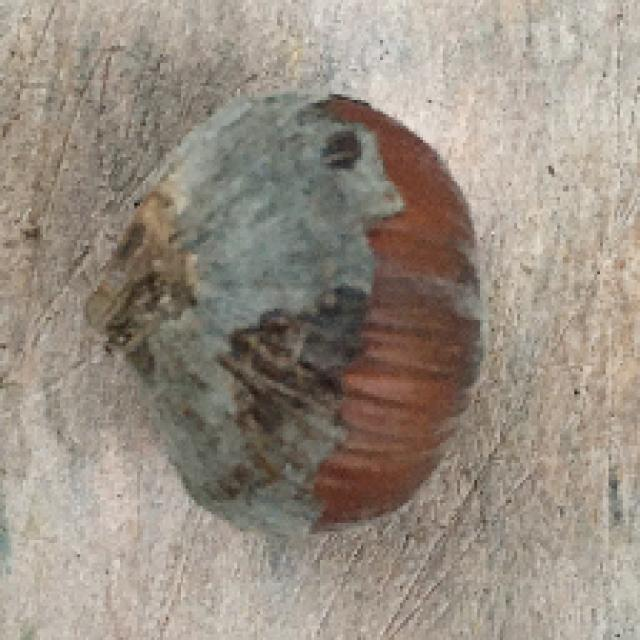damagedHazelnut: (105, 83, 498, 542)
